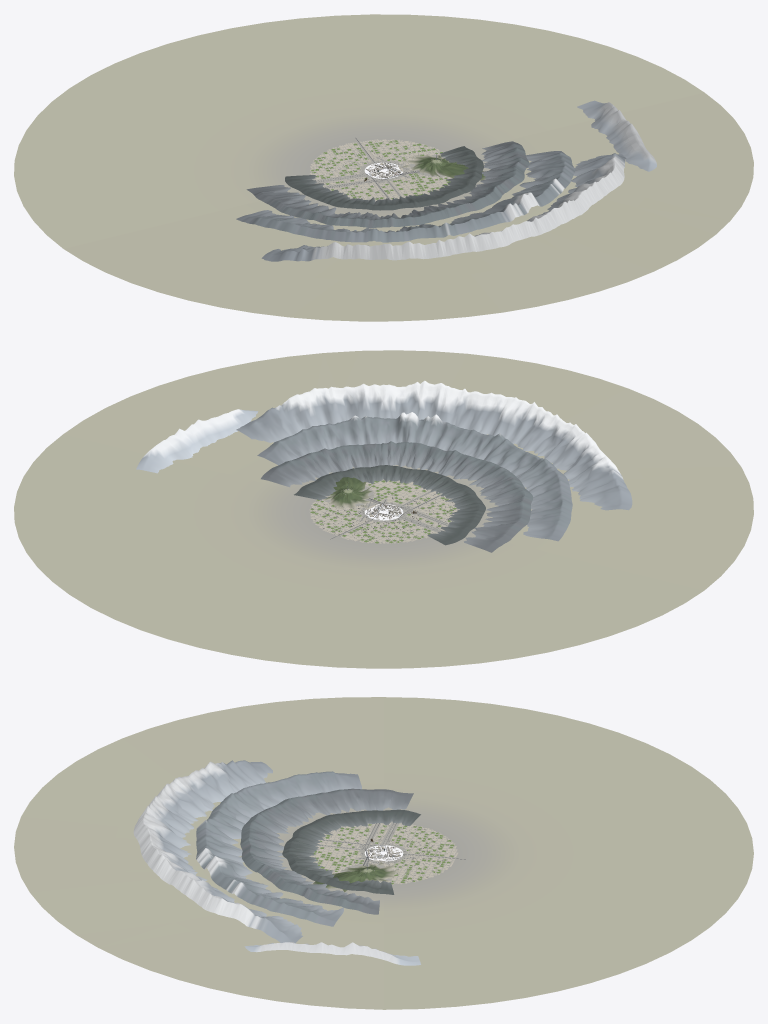
File: dostyk-plaza.env.glb
3 views of the same model, one above another, from view 1: azimuth 30°, elevation 25°; view 2: azimuth 150°, elevation 25°; view 3: azimuth 270°, elevation 25° (orthographic).
Parts seen in each view (by area): view 1: Context_Far__ctx.farStreet, Context_Mountains__ctx.mountain, Context_Mountains__ctx.mountainFar, Context_Mountains__ctx.snow, Context_Far__site.ground, Context_Far__site.grassDark, Context_Far__ctx.clayFar, Context_Landmarks__ctx.hill; view 2: Context_Far__ctx.farStreet, Context_Mountains__ctx.mountainFar, Context_Mountains__ctx.mountain, Context_Mountains__ctx.snow, Context_Far__site.ground, Context_Far__site.grassDark, Context_Far__ctx.clayFar, Context_Landmarks__ctx.hill; view 3: Context_Far__ctx.farStreet, Context_Mountains__ctx.mountainFar, Context_Mountains__ctx.mountain, Context_Mountains__ctx.snow, Context_Far__site.ground, Context_Far__site.grassDark, Context_Far__ctx.clayFar, Context_Landmarks__ctx.hill.
Part boxes in pixels (bbox=[...]): Context_Far__ctx.farStreet: bbox=[14, 14, 753, 321]; Context_Mountains__ctx.mountain: bbox=[246, 141, 529, 227]; Context_Mountains__ctx.mountainFar: bbox=[236, 100, 656, 261]; Context_Mountains__ctx.snow: bbox=[313, 102, 655, 260]; Context_Far__site.ground: bbox=[310, 139, 452, 200]; Context_Far__site.grassDark: bbox=[311, 140, 450, 199]; Context_Far__ctx.clayFar: bbox=[311, 140, 449, 199]; Context_Landmarks__ctx.hill: bbox=[398, 154, 485, 180]; Context_Far__ctx.farStreet: bbox=[14, 350, 753, 668]; Context_Mountains__ctx.mountainFar: bbox=[136, 394, 632, 541]; Context_Mountains__ctx.mountain: bbox=[261, 441, 533, 552]; Context_Mountains__ctx.snow: bbox=[143, 380, 622, 477]; Context_Far__site.ground: bbox=[309, 480, 457, 543]; Context_Far__site.grassDark: bbox=[310, 480, 456, 543]; Context_Far__ctx.clayFar: bbox=[311, 481, 455, 542]; Context_Landmarks__ctx.hill: bbox=[323, 469, 376, 510]; Context_Far__ctx.farStreet: bbox=[14, 697, 753, 1009]; Context_Mountains__ctx.mountainFar: bbox=[156, 760, 420, 965]; Context_Mountains__ctx.mountain: bbox=[240, 788, 420, 914]; Context_Mountains__ctx.snow: bbox=[133, 761, 397, 964]; Context_Far__site.ground: bbox=[310, 822, 457, 884]; Context_Far__site.grassDark: bbox=[313, 824, 454, 884]; Context_Far__ctx.clayFar: bbox=[315, 823, 456, 883]; Context_Landmarks__ctx.hill: bbox=[313, 860, 399, 892].
Bounding box in the file's own units: 23000 × 1239 × 23000.
